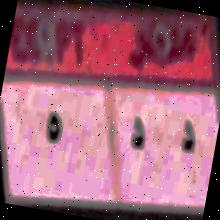5: (39, 102, 69, 148)
daal: (172, 112, 202, 162), (126, 112, 150, 161)
